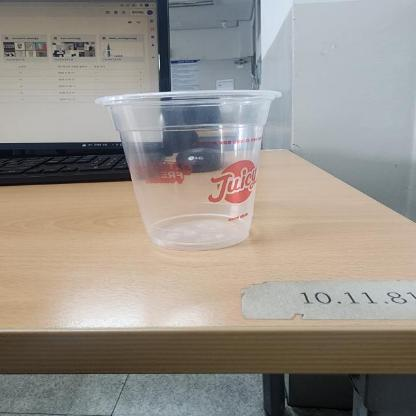Plastic Cup: (94, 88, 284, 250)
